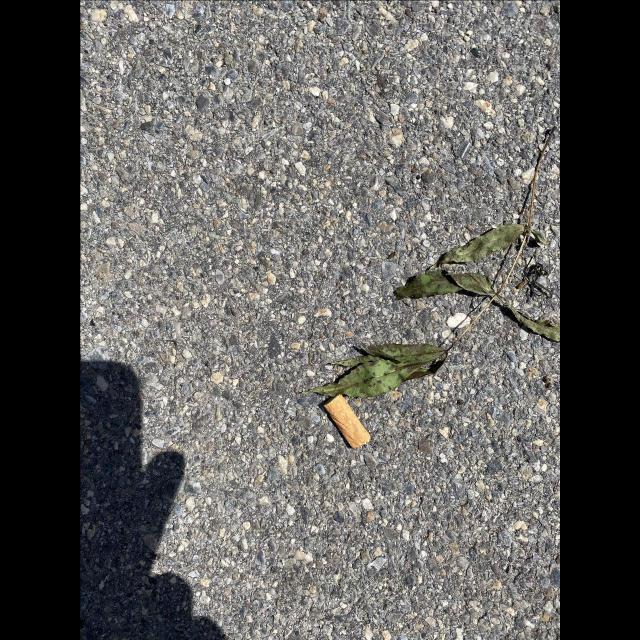cigarette: (322, 392, 371, 449)
